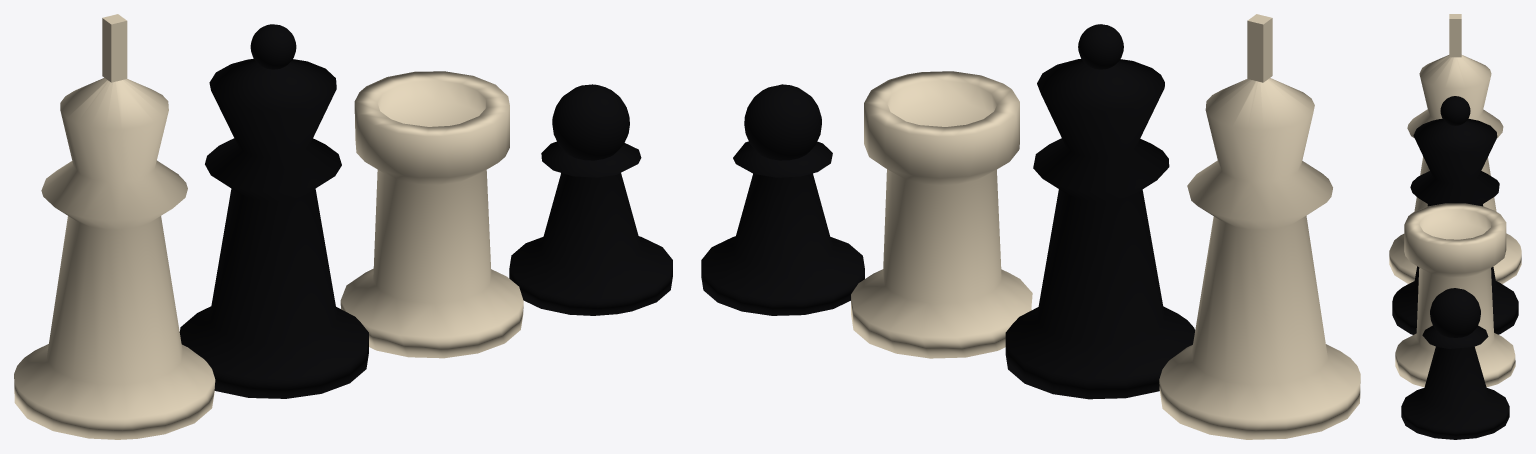
The model's file is chess-set-classic.glb.
3 views of the same model, side by side, from view 1: azimuth 30°, elevation 25°; view 2: azimuth 150°, elevation 25°; view 3: azimuth 270°, elevation 25° (orthographic). The views are drawn at different scales.
Parts seen in each view (by area): view 1: King, Queen, Rook, Pawn, Pawn Head, King Cross, Queen Orb; view 2: King, Queen, Rook, Pawn, Pawn Head, King Cross, Queen Orb; view 3: Rook, Queen, Pawn, King, Pawn Head, Queen Orb, King Cross.
Part boxes in pixels (x1,y1,x2,y2): King: (14,78,215,439); Queen: (179,58,368,398); Rook: (340,71,523,358); Pawn: (509,141,672,315); Pawn Head: (552,84,629,160); King Cross: (102,14,127,82); Queen Orb: (250,24,296,69); King: (1159,78,1360,439); Queen: (1005,59,1195,399); Rook: (851,71,1032,358); Pawn: (701,141,864,315); Pawn Head: (744,84,821,160); King Cross: (1247,14,1272,82); Queen Orb: (1078,24,1123,69); Rook: (1395,203,1515,387); Queen: (1392,118,1518,334); Pawn: (1401,325,1509,439); King: (1389,55,1521,284); Pawn Head: (1430,288,1480,337); Queen Orb: (1440,96,1470,125); King Cross: (1449,14,1461,57).
Size of the model in its own units: 1.6 by 0.91 by 0.44.
